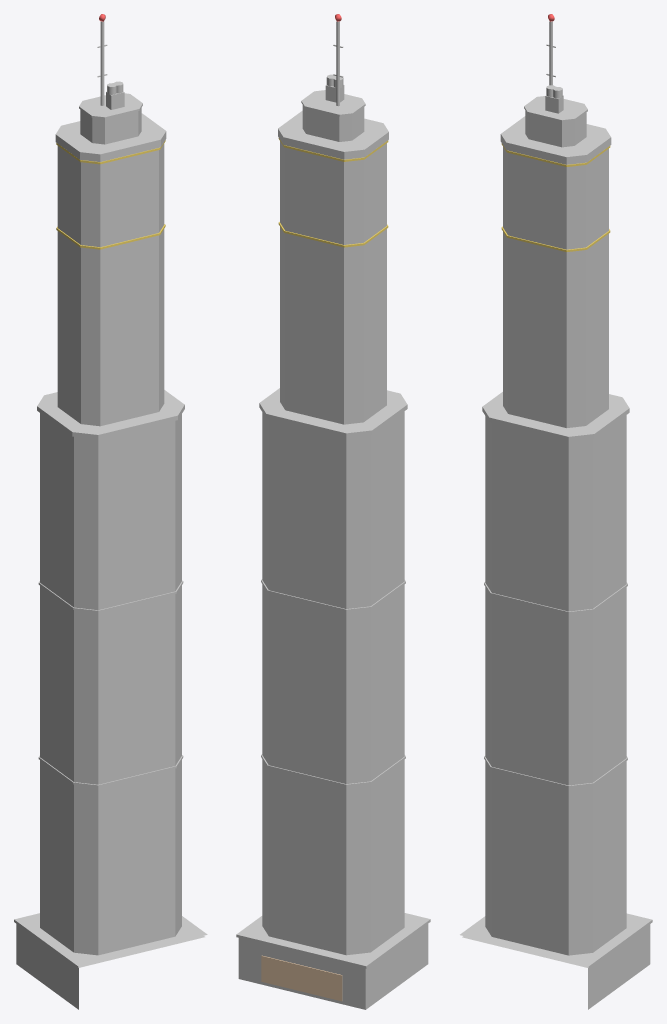
Rendered from GlassTowerB.glb.
The picture shows the model from 3 angles, left to right: view 1: azimuth 30°, elevation 25°; view 2: azimuth 150°, elevation 25°; view 3: azimuth 330°, elevation 25°; orthographic projection.
Parts seen in each view (by area): view 1: Body, Glow; view 2: Body, Warm, Glow; view 3: Body, Glow.
Boxes of the visible parts, x1=… form: Body: x1=14, y1=21, x2=207, y2=1009; Glow: x1=56, y1=140, x2=165, y2=249; Body: x1=236, y1=21, x2=430, y2=1009; Warm: x1=261, y1=955, x2=342, y2=1001; Glow: x1=278, y1=138, x2=388, y2=247; Body: x1=460, y1=21, x2=652, y2=1009; Glow: x1=501, y1=143, x2=610, y2=252.
Size of the model in its own units: 42 by 296 by 36.
